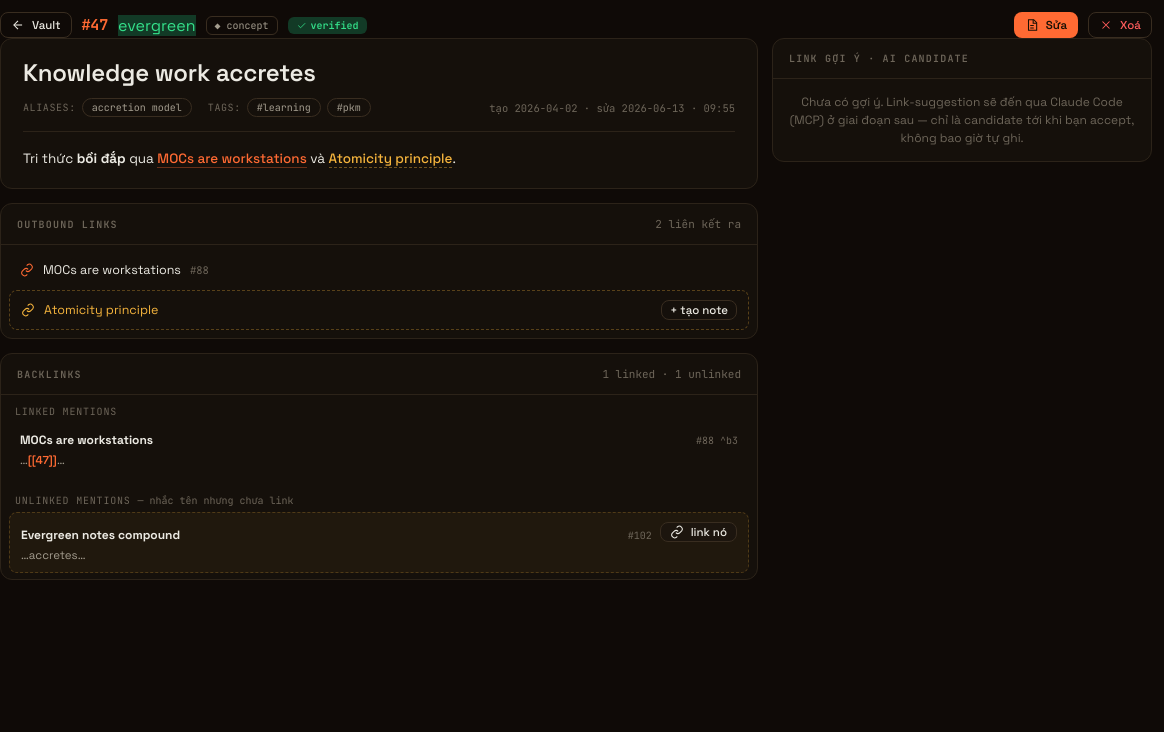
Test: W2 Note view/edit › delete is a TWO-CLICK confirm: first click arms it, does NOT delete yet
Expected: the text "#47" is shown, [82, 15, 108, 35]
Note: first click: arms — confirm button appears, delete NOT called (no 1-click loss)
Click the button with test id "wiki-delete-btn". click: (1120, 25)
box: [1088, 12, 1152, 38]
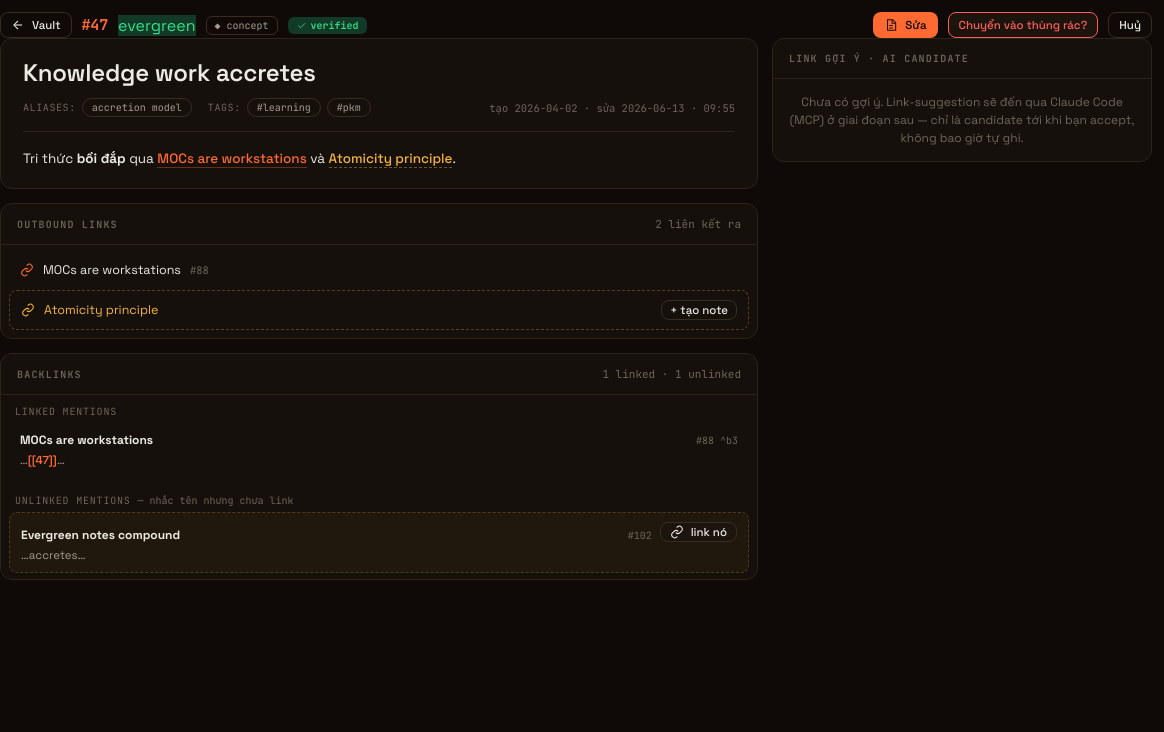
Result: the button with test id "wiki-delete-confirm" is shown at [948, 12, 1098, 38]
